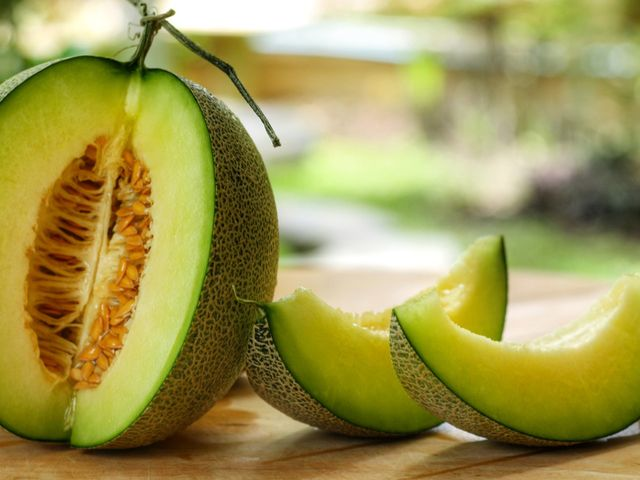Melon: (268, 226, 504, 424), (384, 309, 640, 432)
